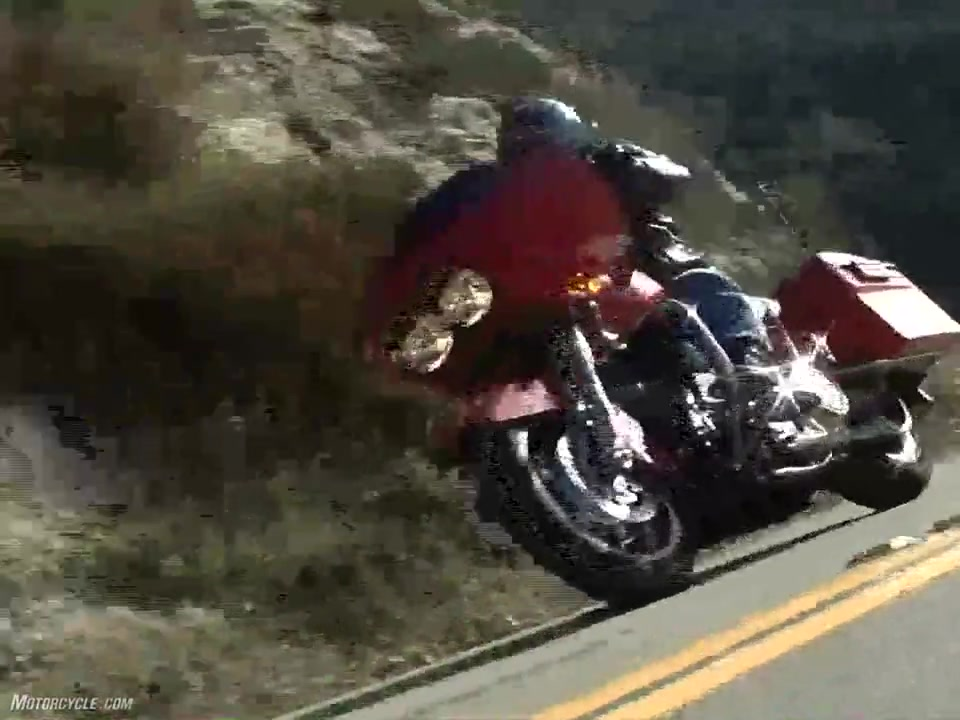motorbike: (347, 129, 958, 606)
